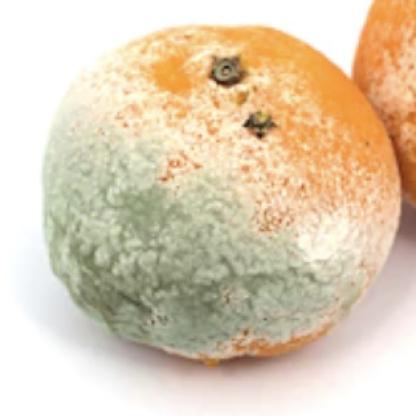rotten: (43, 24, 404, 367)
